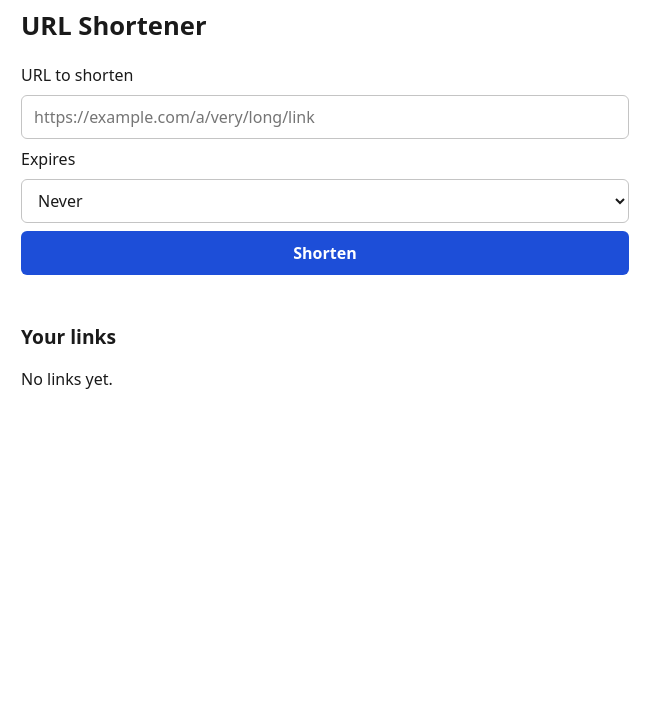
Test: App › falls back to selecting the text when copy fails
Type "https://example.com/long" into the field labelled "URL to shorten" at (325, 117), box 21,95 -> 629,139
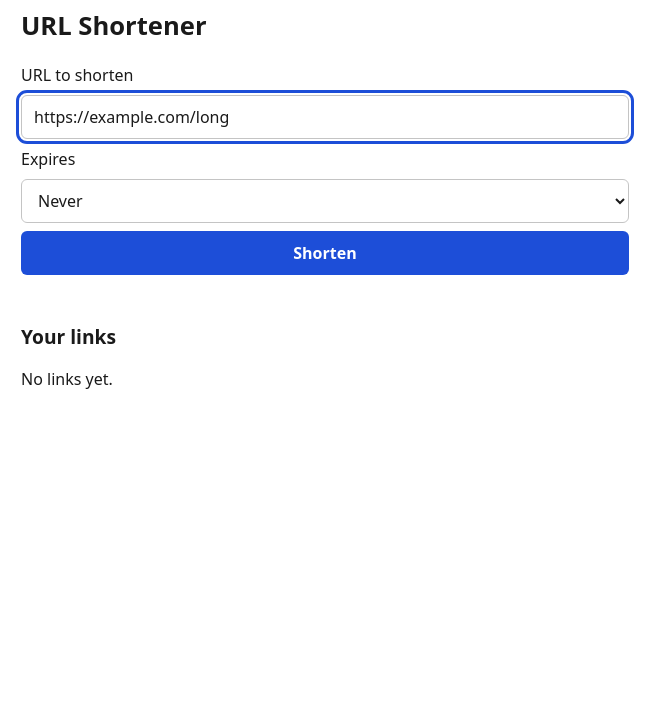
Click the button "Shorten" at (325, 253), box 21,231 -> 629,275
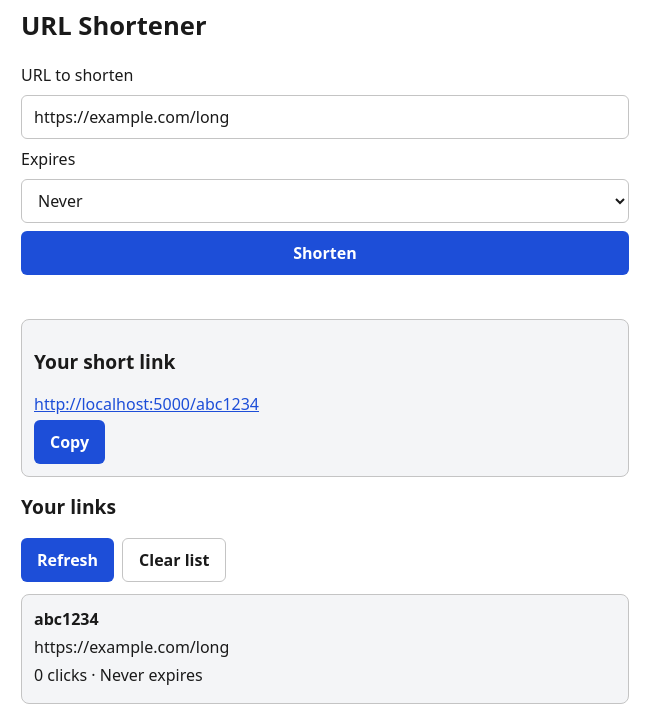
Expected: the link "http://localhost:5000/abc1234" is shown, 34,393 -> 259,415
Click the button "Copy" at (70, 442), box 34,420 -> 105,464
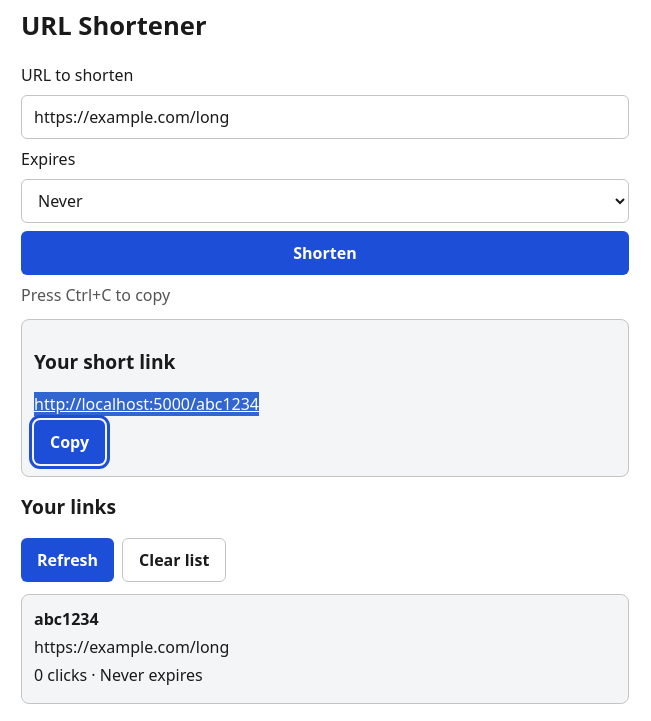
Expected: the link "http://localhost:5000/abc1234" is shown, 34,393 -> 259,415
Expected: the message reads "Press Ctrl+C to copy", 21,284 -> 170,306
